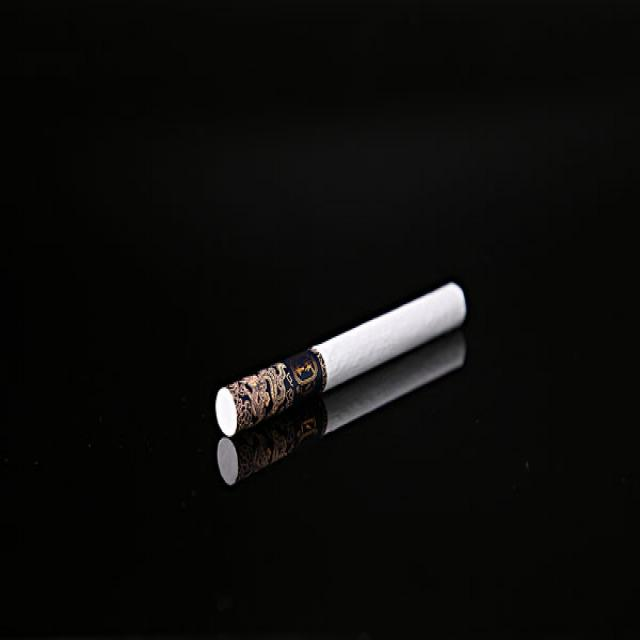smoking: (215, 280, 469, 436), (217, 326, 465, 482)
